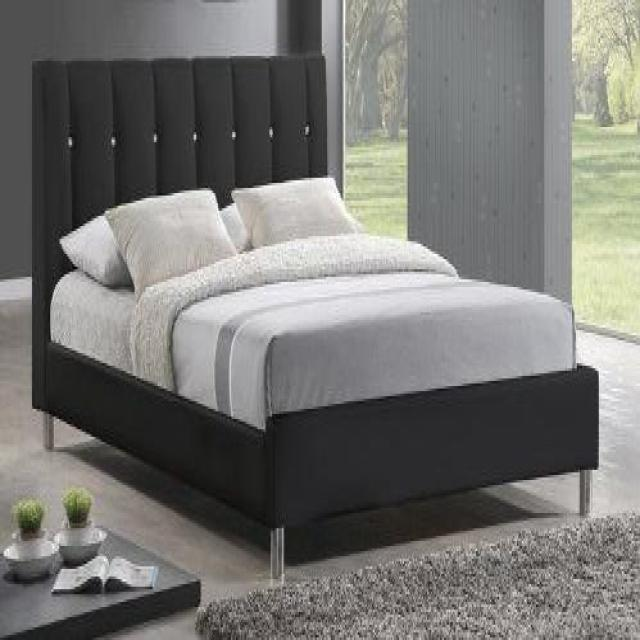bed: (29, 51, 599, 579)
